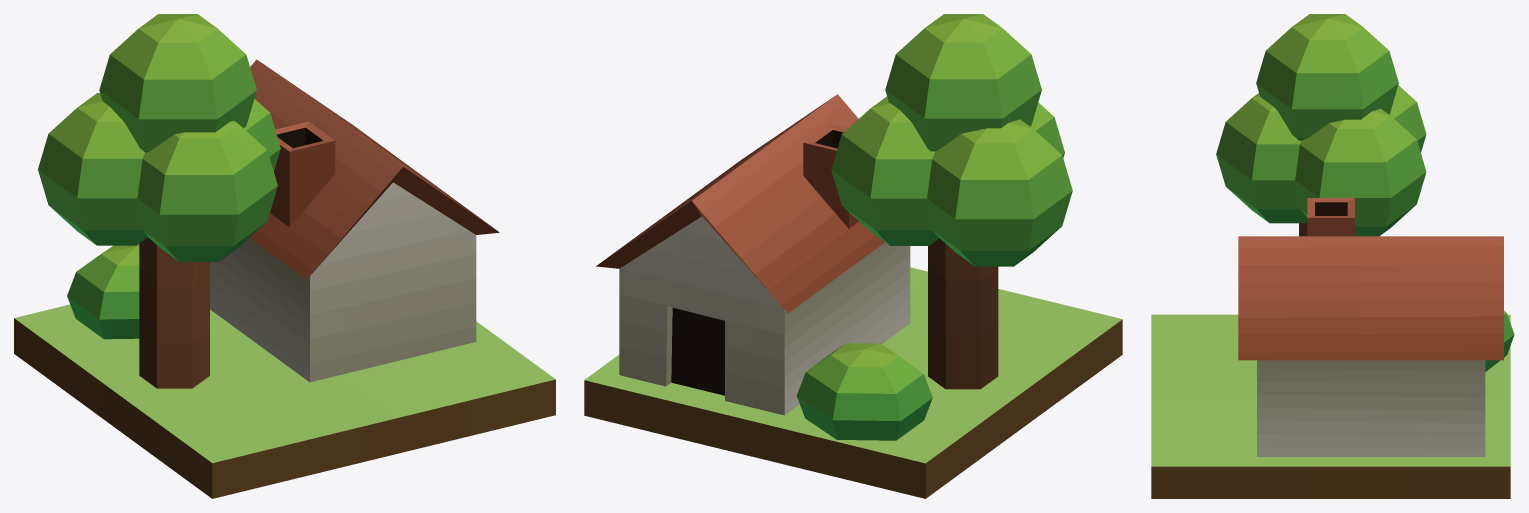
Rendered from maison chene.fbx.
3 views of the same model, side by side, from view 1: azimuth 30°, elevation 25°; view 2: azimuth 150°, elevation 25°; view 3: azimuth 270°, elevation 25° (orthographic). The views are drawn at different scales.
Parts seen in each view (by area): view 1: arbre2, MAISON DEMANDE 1, base 1, buisson; view 2: MAISON DEMANDE 1, arbre2, base 1, buisson; view 3: MAISON DEMANDE 1, arbre2, base 1, buisson.
Boxes of the visible parts, x1,y1,x2,y2 form: arbre2: (38, 14, 280, 388); MAISON DEMANDE 1: (210, 59, 499, 382); base 1: (14, 304, 555, 498); buisson: (67, 244, 139, 339); MAISON DEMANDE 1: (596, 94, 910, 415); arbre2: (831, 14, 1072, 389); base 1: (584, 267, 1122, 498); buisson: (796, 343, 932, 440); MAISON DEMANDE 1: (1238, 198, 1503, 456); arbre2: (1216, 14, 1426, 236); base 1: (1151, 314, 1510, 498); buisson: (1485, 311, 1514, 371).
Bounding box in the file's own units: 225 × 202 × 219.
